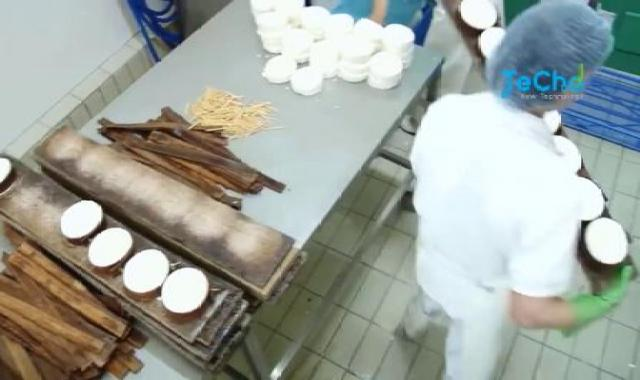hairnet: (478, 2, 618, 108)
